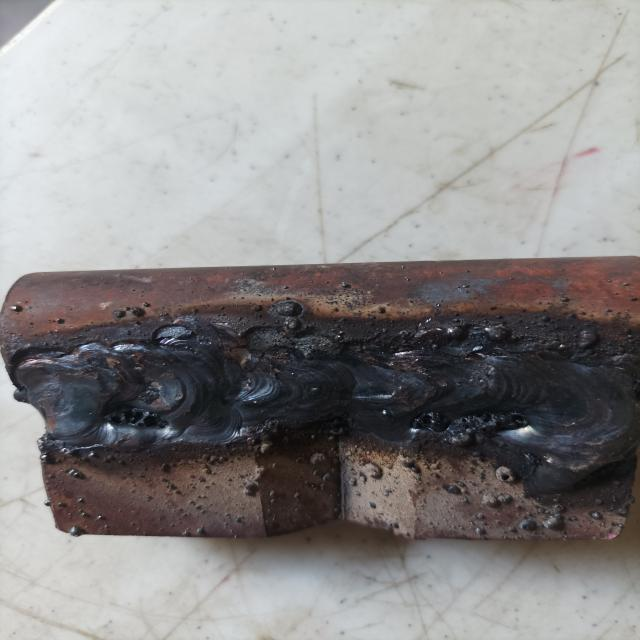Porosity: (450, 410, 530, 439), (99, 407, 174, 433), (409, 409, 450, 431)
